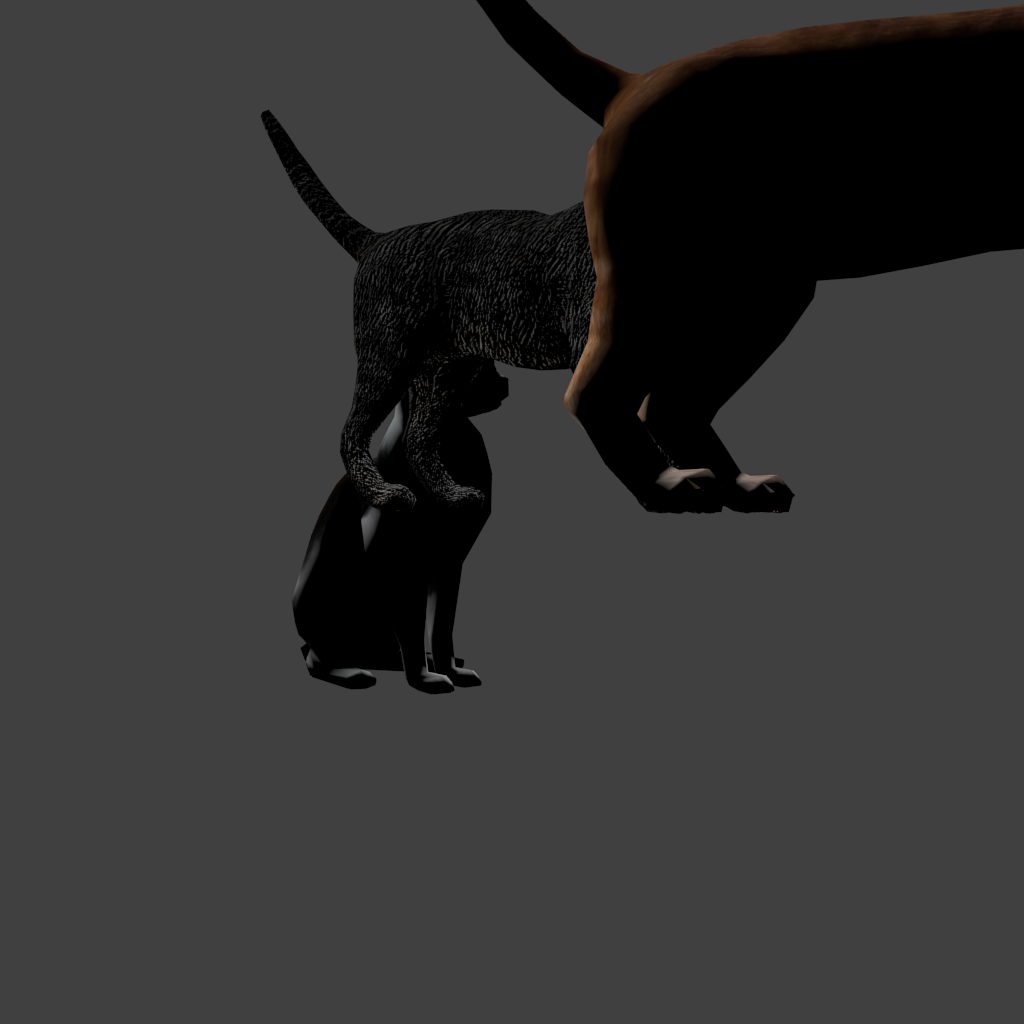Cat: (423, 0, 601, 514), (261, 110, 449, 405)
